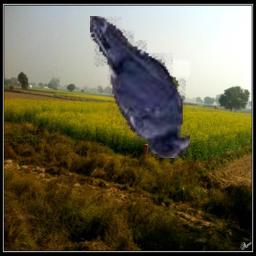Crow: (90, 16, 190, 158)
